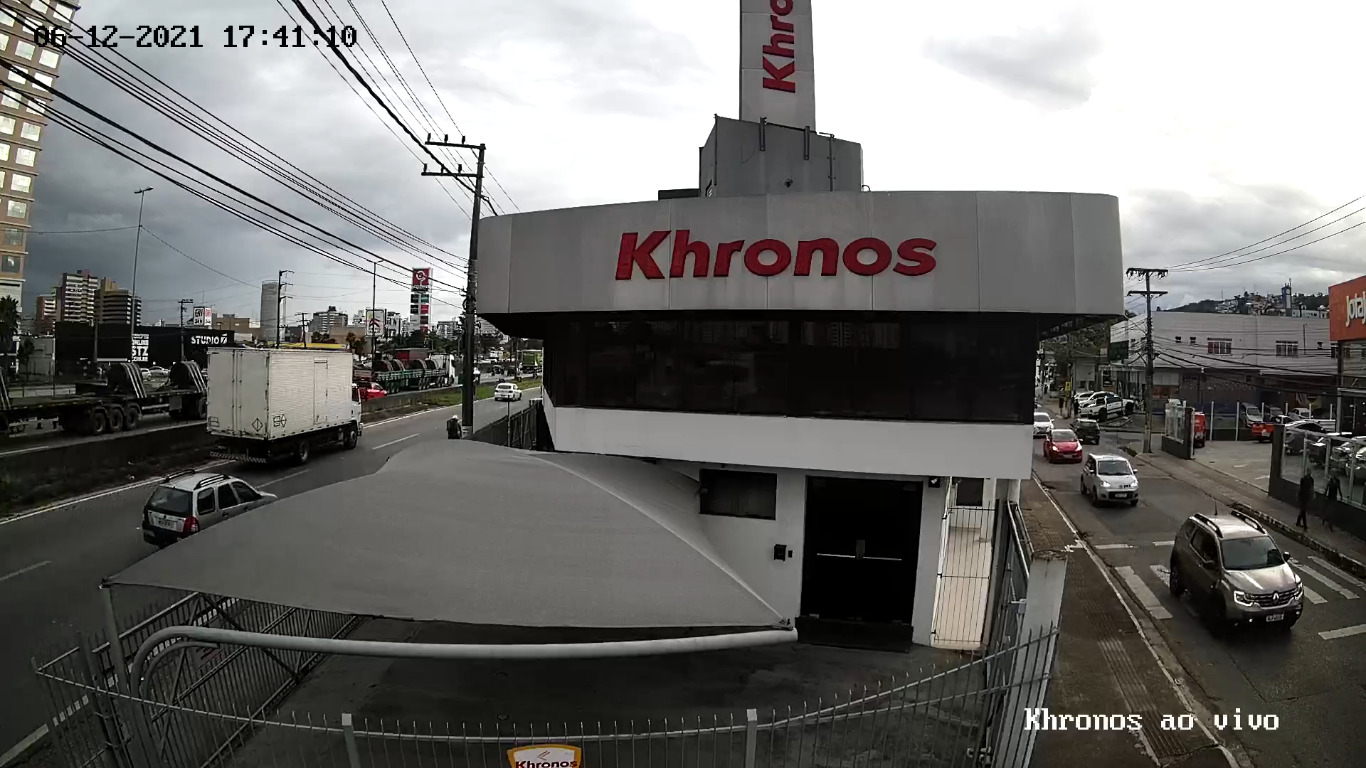car: (1171, 513, 1304, 638), (1080, 452, 1138, 506)
